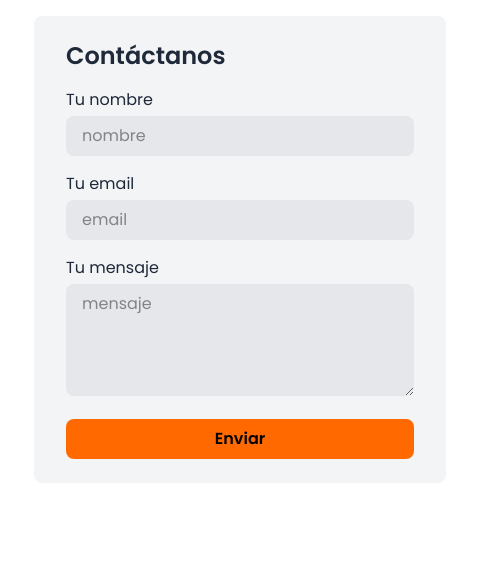
Test: Contact › envía el mensaje, muestra el éxito y limpia el formulario
Step 1. Type "  Ana  " into the field labelled "Tu nombre" → (240, 136), box [66,116,414,156]
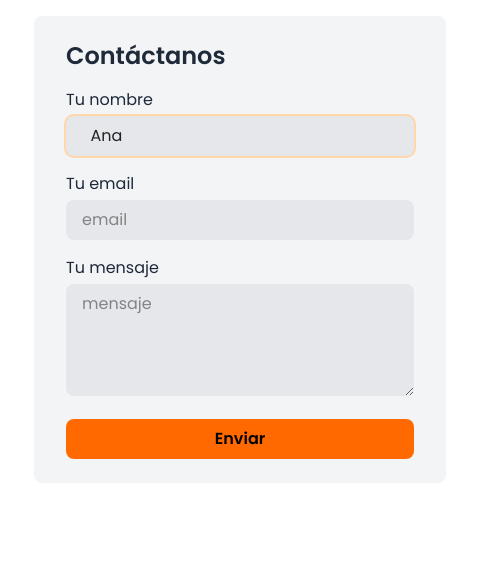
Step 2. Type "ana@example.com" into the field labelled "Tu email" → (240, 220), box [66,200,414,240]
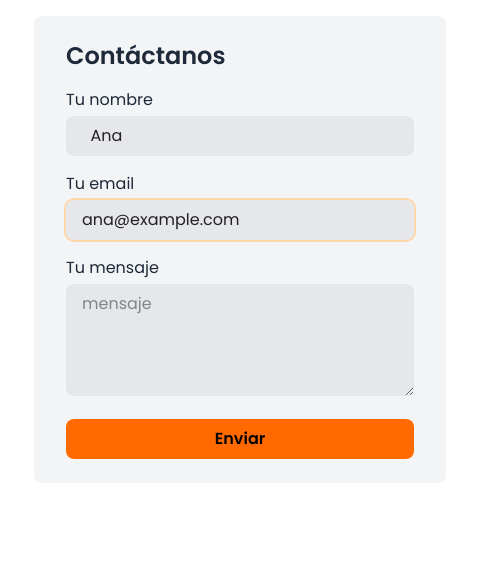
Step 3. Type "Hola" into the text box labelled "Tu mensaje" → (240, 340), box [66,284,414,396]
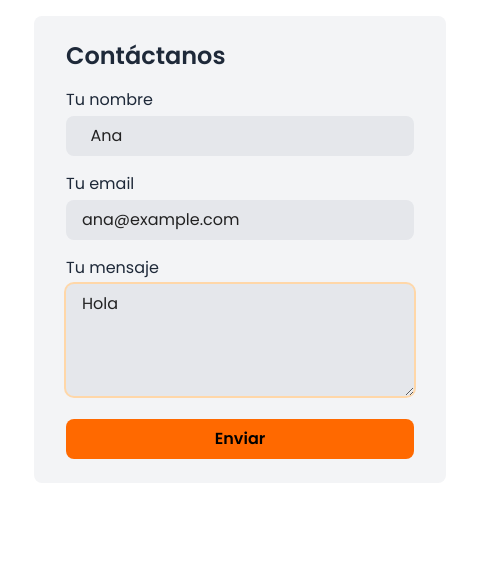
Step 4. Click the button "Enviar" → (240, 439), box [66,419,414,459]
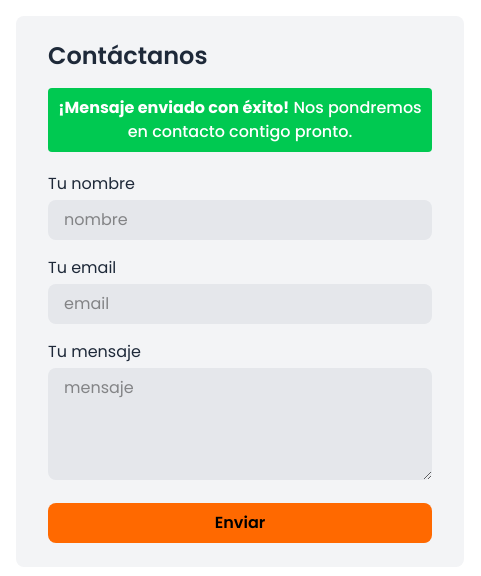
Expected: the message shows "¡Mensaje enviado con éxito!", [58,96,289,119]
Expected: the field labelled "Tu nombre" is empty, [48,200,432,240]
Expected: the text box labelled "Tu mensaje" is empty, [48,368,432,480]
